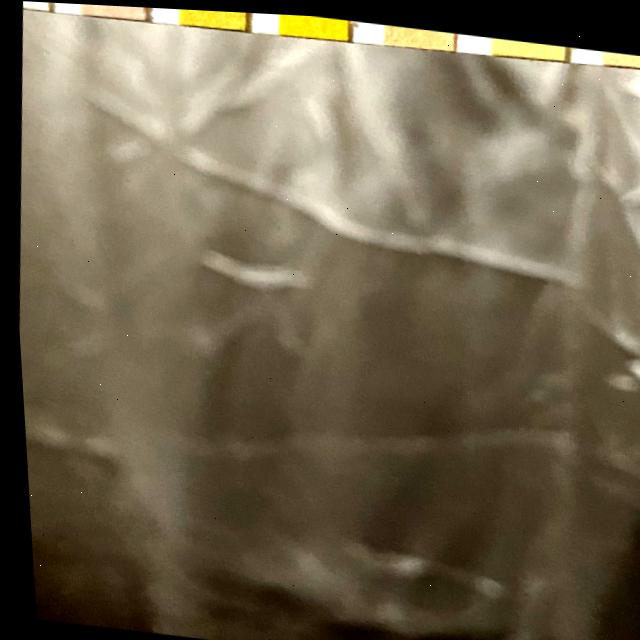Bilirubin: (21, 1, 49, 9)
Blood: (278, 11, 346, 36)
Ketone: (76, 3, 144, 18)
Protein: (490, 31, 564, 54)
SpGravity: (176, 7, 245, 28)
Urobilinogen: (601, 43, 640, 60)
pH: (382, 19, 452, 46)
